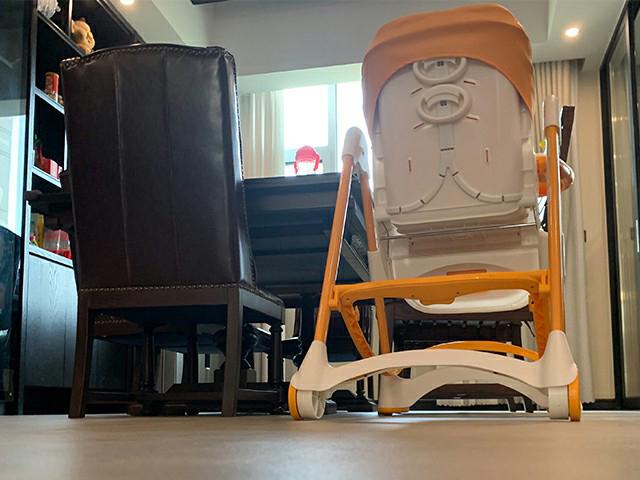cabinet: (1, 6, 134, 414)
curtain: (535, 56, 596, 406)
stool: (58, 43, 288, 419)
